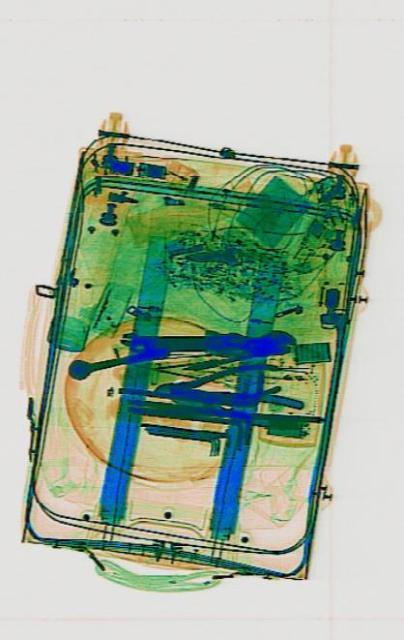Pliers: (152, 360, 280, 408)
Wrench: (119, 330, 243, 348)
